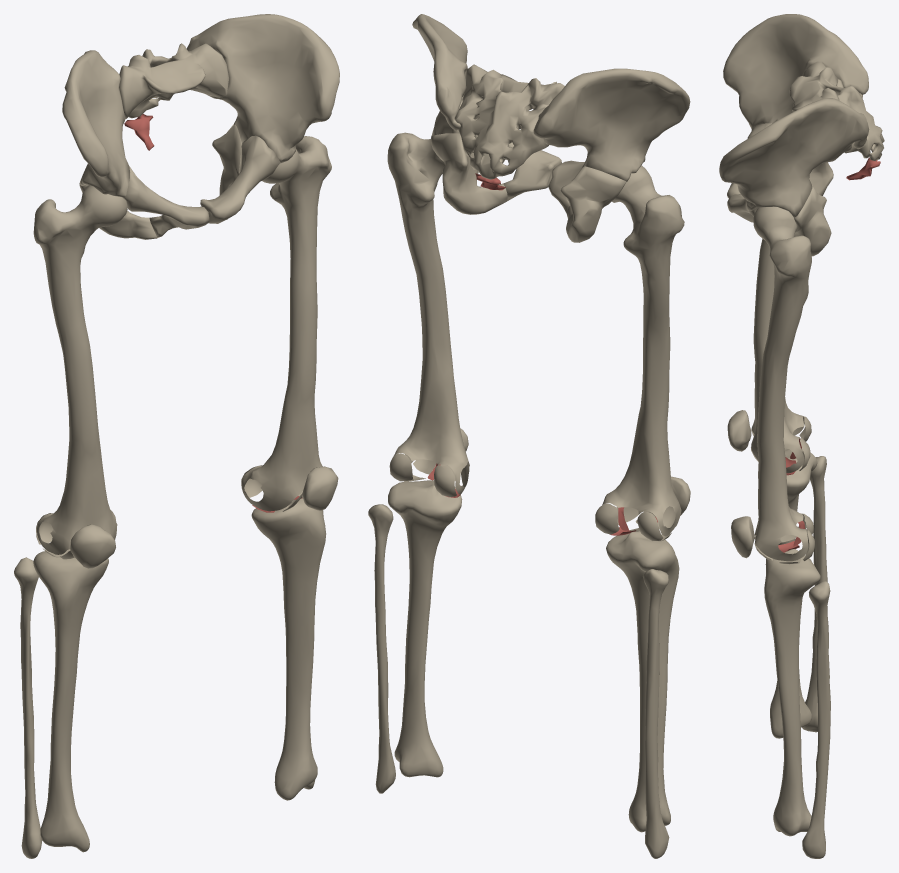
The model's file is adult_female.skeletal.LOD4.glb.
3 renders of one model, left to right at view 1: azimuth 30°, elevation 25°; view 2: azimuth 150°, elevation 25°; view 3: azimuth 270°, elevation 25°, orthographic. The views are drawn at different scales.
Parts seen in each view (by area): view 1: ADULT.FEMALE.SKELETAL.FEMUR.R, ADULT.FEMALE.SKELETAL.FEMUR.L, ADULT.FEMALE.SKELETAL.ILIUM_COMPACT_BONE.L, ADULT.FEMALE.SKELETAL.TIBIA.L, ADULT.FEMALE.SKELETAL.TIBIA.R, ADULT.FEMALE.SKELETAL.ILIUM_COMPACT_BONE.R, ADULT.FEMALE.SKELETAL.SACRUM, ADULT.FEMALE.SKELETAL.FIBULA.R, ADULT.FEMALE.SKELETAL.PUBIS_COMPACT_BONE.L, ADULT.FEMALE.SKELETAL.PUBIS_COMPACT_BONE.R, ADULT.FEMALE.SKELETAL.PATELLA.R, ADULT.FEMALE.SKELETAL.PATELLA.L (+2 smaller); view 2: ADULT.FEMALE.SKELETAL.FEMUR.R, ADULT.FEMALE.SKELETAL.FEMUR.L, ADULT.FEMALE.SKELETAL.ILIUM_COMPACT_BONE.R, ADULT.FEMALE.SKELETAL.TIBIA.L, ADULT.FEMALE.SKELETAL.SACRUM, ADULT.FEMALE.SKELETAL.TIBIA.R, ADULT.FEMALE.SKELETAL.FIBULA.R, ADULT.FEMALE.SKELETAL.ILIUM_COMPACT_BONE.L, ADULT.FEMALE.SKELETAL.FIBULA.L, ADULT.FEMALE.SKELETAL.ISCHIUM_COMPACT_BONE.L, ADULT.FEMALE.SKELETAL.ISCHIUM_COMPACT_BONE.R, ADULT.FEMALE.SKELETAL.PUBIS_COMPACT_BONE.L (+1 smaller); view 3: ADULT.FEMALE.SKELETAL.FEMUR.L, ADULT.FEMALE.SKELETAL.ILIUM_COMPACT_BONE.L, ADULT.FEMALE.SKELETAL.ILIUM_COMPACT_BONE.R, ADULT.FEMALE.SKELETAL.TIBIA.L, ADULT.FEMALE.SKELETAL.FIBULA.L, ADULT.FEMALE.SKELETAL.FEMUR.R, ADULT.FEMALE.SKELETAL.SACRUM, ADULT.FEMALE.SKELETAL.FIBULA.R, ADULT.FEMALE.SKELETAL.TIBIA.R, ADULT.FEMALE.SKELETAL.ISCHIUM_COMPACT_BONE.L, ADULT.FEMALE.SKELETAL.PATELLA.L, ADULT.FEMALE.SKELETAL.PATELLA.R (+2 smaller).
Part boxes in pixels (<box>): ADULT.FEMALE.SKELETAL.FEMUR.R: <box>33,185,127,554</box>; ADULT.FEMALE.SKELETAL.FEMUR.L: <box>241,136,331,511</box>; ADULT.FEMALE.SKELETAL.ILIUM_COMPACT_BONE.L: <box>186,14,339,163</box>; ADULT.FEMALE.SKELETAL.TIBIA.L: <box>251,494,326,800</box>; ADULT.FEMALE.SKELETAL.TIBIA.R: <box>33,551,108,852</box>; ADULT.FEMALE.SKELETAL.ILIUM_COMPACT_BONE.R: <box>62,50,129,197</box>; ADULT.FEMALE.SKELETAL.SACRUM: <box>119,43,228,119</box>; ADULT.FEMALE.SKELETAL.FIBULA.R: <box>14,557,42,858</box>; ADULT.FEMALE.SKELETAL.PUBIS_COMPACT_BONE.L: <box>200,135,280,223</box>; ADULT.FEMALE.SKELETAL.PUBIS_COMPACT_BONE.R: <box>123,166,209,237</box>; ADULT.FEMALE.SKELETAL.PATELLA.R: <box>70,524,115,568</box>; ADULT.FEMALE.SKELETAL.PATELLA.L: <box>302,466,338,510</box>; ADULT.FEMALE.SKELETAL.FEMUR.R: <box>598,165,684,536</box>; ADULT.FEMALE.SKELETAL.FEMUR.L: <box>387,132,469,494</box>; ADULT.FEMALE.SKELETAL.ILIUM_COMPACT_BONE.R: <box>533,68,690,182</box>; ADULT.FEMALE.SKELETAL.TIBIA.L: <box>388,480,462,777</box>; ADULT.FEMALE.SKELETAL.SACRUM: <box>455,64,564,179</box>; ADULT.FEMALE.SKELETAL.TIBIA.R: <box>606,528,679,832</box>; ADULT.FEMALE.SKELETAL.FIBULA.R: <box>643,569,669,858</box>; ADULT.FEMALE.SKELETAL.ILIUM_COMPACT_BONE.L: <box>412,14,477,135</box>; ADULT.FEMALE.SKELETAL.FIBULA.L: <box>368,504,395,793</box>; ADULT.FEMALE.SKELETAL.ISCHIUM_COMPACT_BONE.L: <box>431,133,507,214</box>; ADULT.FEMALE.SKELETAL.ISCHIUM_COMPACT_BONE.R: <box>560,166,626,242</box>; ADULT.FEMALE.SKELETAL.PUBIS_COMPACT_BONE.L: <box>474,135,561,201</box>; ADULT.FEMALE.SKELETAL.FEMUR.L: <box>753,206,811,561</box>; ADULT.FEMALE.SKELETAL.ILIUM_COMPACT_BONE.L: <box>719,98,869,217</box>; ADULT.FEMALE.SKELETAL.ILIUM_COMPACT_BONE.R: <box>723,14,868,130</box>; ADULT.FEMALE.SKELETAL.TIBIA.L: <box>764,549,820,836</box>; ADULT.FEMALE.SKELETAL.FIBULA.L: <box>802,581,830,858</box>; ADULT.FEMALE.SKELETAL.FEMUR.R: <box>751,238,804,473</box>; ADULT.FEMALE.SKELETAL.SACRUM: <box>789,61,884,161</box>; ADULT.FEMALE.SKELETAL.FIBULA.R: <box>802,456,827,732</box>; ADULT.FEMALE.SKELETAL.TIBIA.R: <box>770,448,817,738</box>; ADULT.FEMALE.SKELETAL.ISCHIUM_COMPACT_BONE.L: <box>794,186,831,256</box>; ADULT.FEMALE.SKELETAL.PATELLA.L: <box>731,516,754,558</box>; ADULT.FEMALE.SKELETAL.PATELLA.R: <box>727,410,751,451</box>.
Size of the model in its own units: 0.3598 by 0.8977 by 0.1832.
